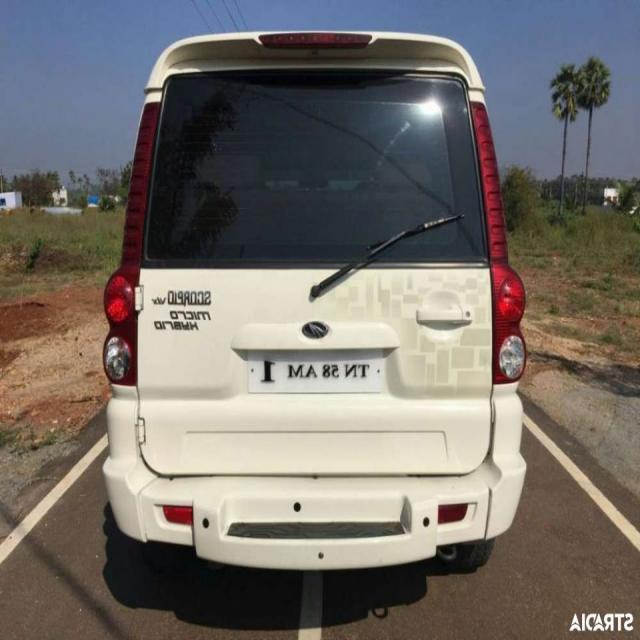license_plate: (246, 347, 383, 397)
